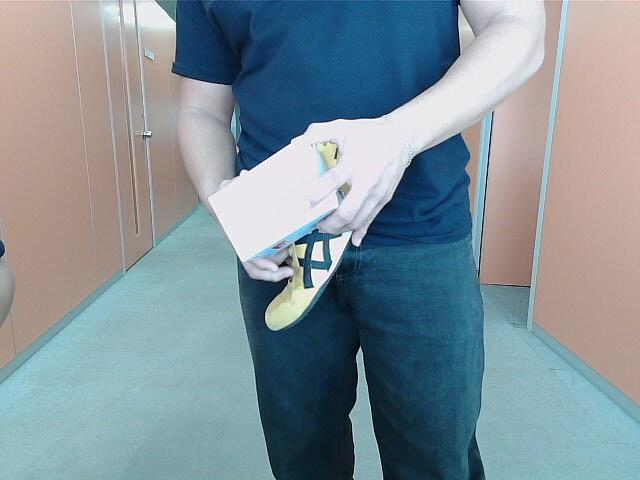Blind_box: (205, 138, 339, 253)
Shoes: (260, 195, 377, 341)
